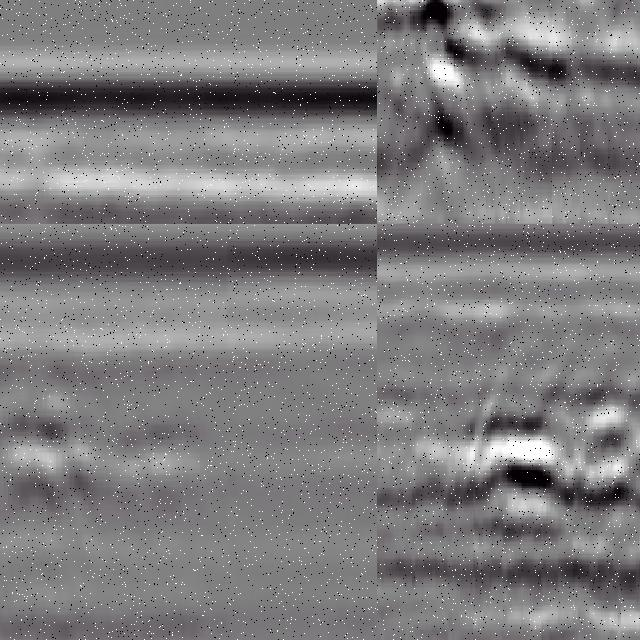loose: (456, 375, 640, 579), (1, 381, 210, 521), (378, 1, 531, 107)
